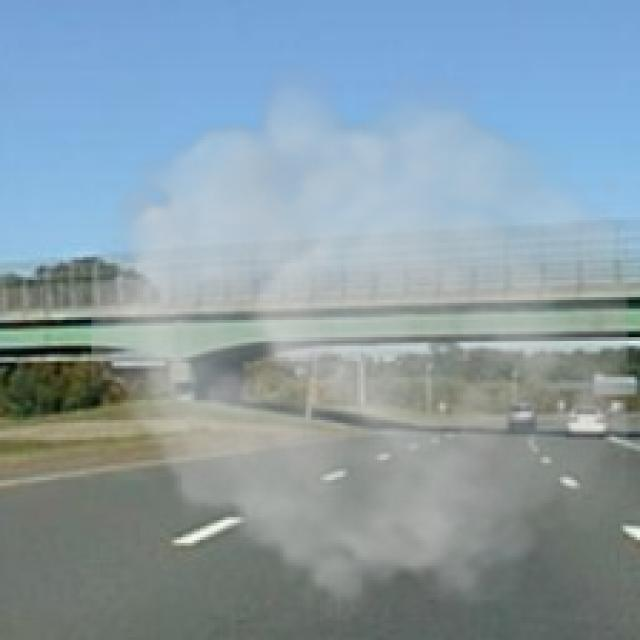smoke: (91, 60, 628, 626)
